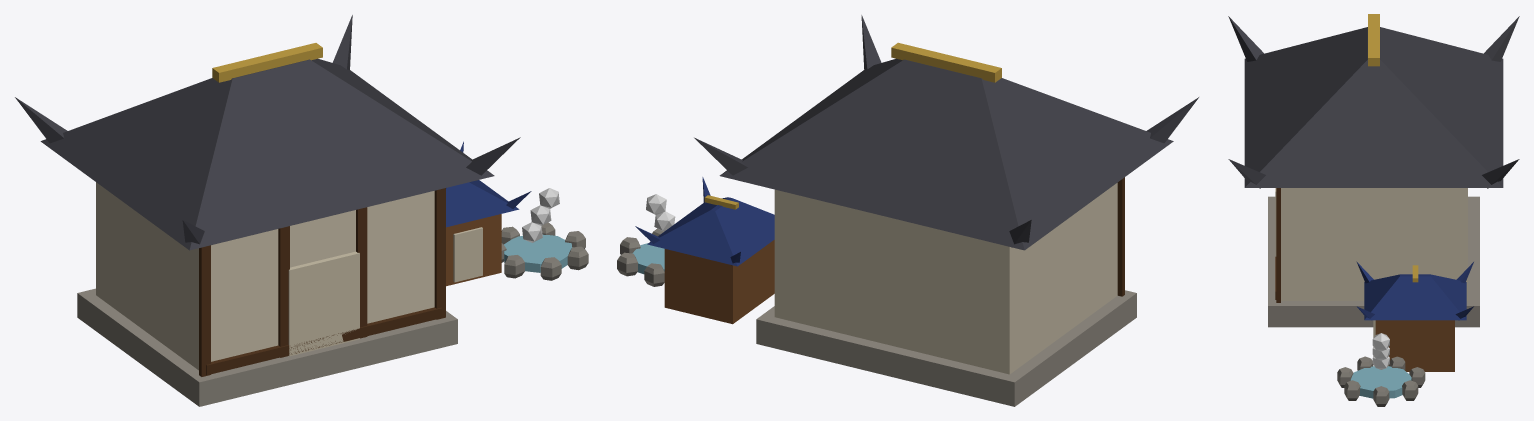
Rendered from macaque_hall_broken.glb.
The picture shows the model from 3 angles, left to right: view 1: azimuth 30°, elevation 25°; view 2: azimuth 150°, elevation 25°; view 3: azimuth 270°, elevation 25°; orthographic projection. The views are drawn at different scales.
Parts seen in each view (by area): view 1: macaque_hall_piece1, macaque_hall_piece0, macaque_hall_piece13, macaque_hall_piece8, macaque_hall_piece2, macaque_hall_piece4, macaque_hall_piece12, macaque_hall_piece5, macaque_hall_piece6, macaque_hall_piece3, macaque_hall_piece10, macaque_hall_piece9; view 2: macaque_hall_piece7, macaque_hall_piece1, macaque_hall_piece0, macaque_hall_piece5, macaque_hall_piece9, macaque_hall_piece10, macaque_hall_piece2, macaque_hall_piece3, macaque_hall_piece8, macaque_hall_piece11, macaque_hall_piece12, macaque_hall_piece4; view 3: macaque_hall_piece2, macaque_hall_piece4, macaque_hall_piece8, macaque_hall_piece5, macaque_hall_piece1, macaque_hall_piece9, macaque_hall_piece7, macaque_hall_piece13, macaque_hall_piece12, macaque_hall_piece10, macaque_hall_piece0, macaque_hall_piece11 (+2 smaller).
Boxes of the visible parts, left/top/right/bottom form: macaque_hall_piece1: left=57, top=91, right=370, bottom=292; macaque_hall_piece0: left=77, top=210, right=355, bottom=406; macaque_hall_piece13: left=307, top=154, right=457, bottom=368; macaque_hall_piece8: left=217, top=43, right=471, bottom=159; macaque_hall_piece2: left=315, top=59, right=555, bottom=286; macaque_hall_piece4: left=335, top=115, right=520, bottom=255; macaque_hall_piece12: left=460, top=141, right=588, bottom=278; macaque_hall_piece5: left=104, top=58, right=378, bottom=135; macaque_hall_piece6: left=223, top=90, right=337, bottom=138; macaque_hall_piece3: left=49, top=112, right=119, bottom=152; macaque_hall_piece10: left=15, top=97, right=76, bottom=147; macaque_hall_piece9: left=330, top=15, right=375, bottom=88; macaque_hall_piece7: left=722, top=159, right=938, bottom=378; macaque_hall_piece1: left=955, top=78, right=1198, bottom=349; macaque_hall_piece0: left=909, top=210, right=1136, bottom=406; macaque_hall_piece5: left=752, top=68, right=1030, bottom=194; macaque_hall_piece9: left=653, top=133, right=841, bottom=321; macaque_hall_piece10: left=873, top=162, right=1033, bottom=315; macaque_hall_piece2: left=648, top=80, right=873, bottom=311; macaque_hall_piece3: left=935, top=165, right=1040, bottom=325; macaque_hall_piece8: left=841, top=42, right=1004, bottom=91; macaque_hall_piece11: left=784, top=143, right=920, bottom=215; macaque_hall_piece12: left=617, top=177, right=707, bottom=285; macaque_hall_piece4: left=851, top=15, right=881, bottom=79; macaque_hall_piece2: left=1294, top=82, right=1466, bottom=384; macaque_hall_piece4: left=1228, top=89, right=1373, bottom=327; macaque_hall_piece8: left=1277, top=14, right=1409, bottom=234; macaque_hall_piece5: left=1372, top=14, right=1457, bottom=242; macaque_hall_piece1: left=1228, top=16, right=1357, bottom=119; macaque_hall_piece9: left=1418, top=117, right=1519, bottom=317; macaque_hall_piece7: left=1416, top=75, right=1503, bottom=327; macaque_hall_piece13: left=1244, top=113, right=1317, bottom=327; macaque_hall_piece12: left=1337, top=306, right=1473, bottom=406; macaque_hall_piece10: left=1452, top=16, right=1519, bottom=122; macaque_hall_piece0: left=1244, top=112, right=1479, bottom=259; macaque_hall_piece11: left=1417, top=82, right=1503, bottom=249.
Bounding box in the file's own units: 6.03 × 3.22 × 3.6.
